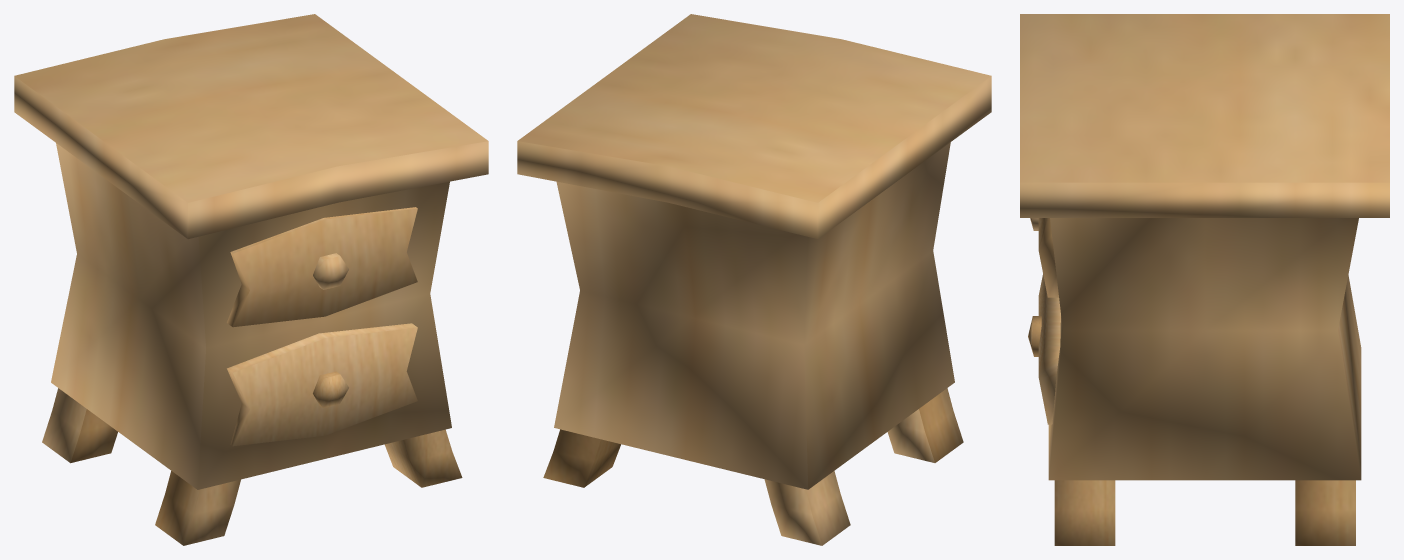
Rendered from nightStand.fbx.
3 views of the same model, side by side, from view 1: azimuth 30°, elevation 25°; view 2: azimuth 150°, elevation 25°; view 3: azimuth 270°, elevation 25° (orthographic). The views are drawn at different scales.
Parts seen in each view (by area): view 1: nightstand; view 2: nightstand; view 3: nightstand.
Part boxes in pixels (<box>): nightstand: <box>14,14,488,545</box>; nightstand: <box>517,14,991,545</box>; nightstand: <box>1020,14,1389,545</box>.
Size of the model in its own units: 80.24 by 91.18 by 80.24.
